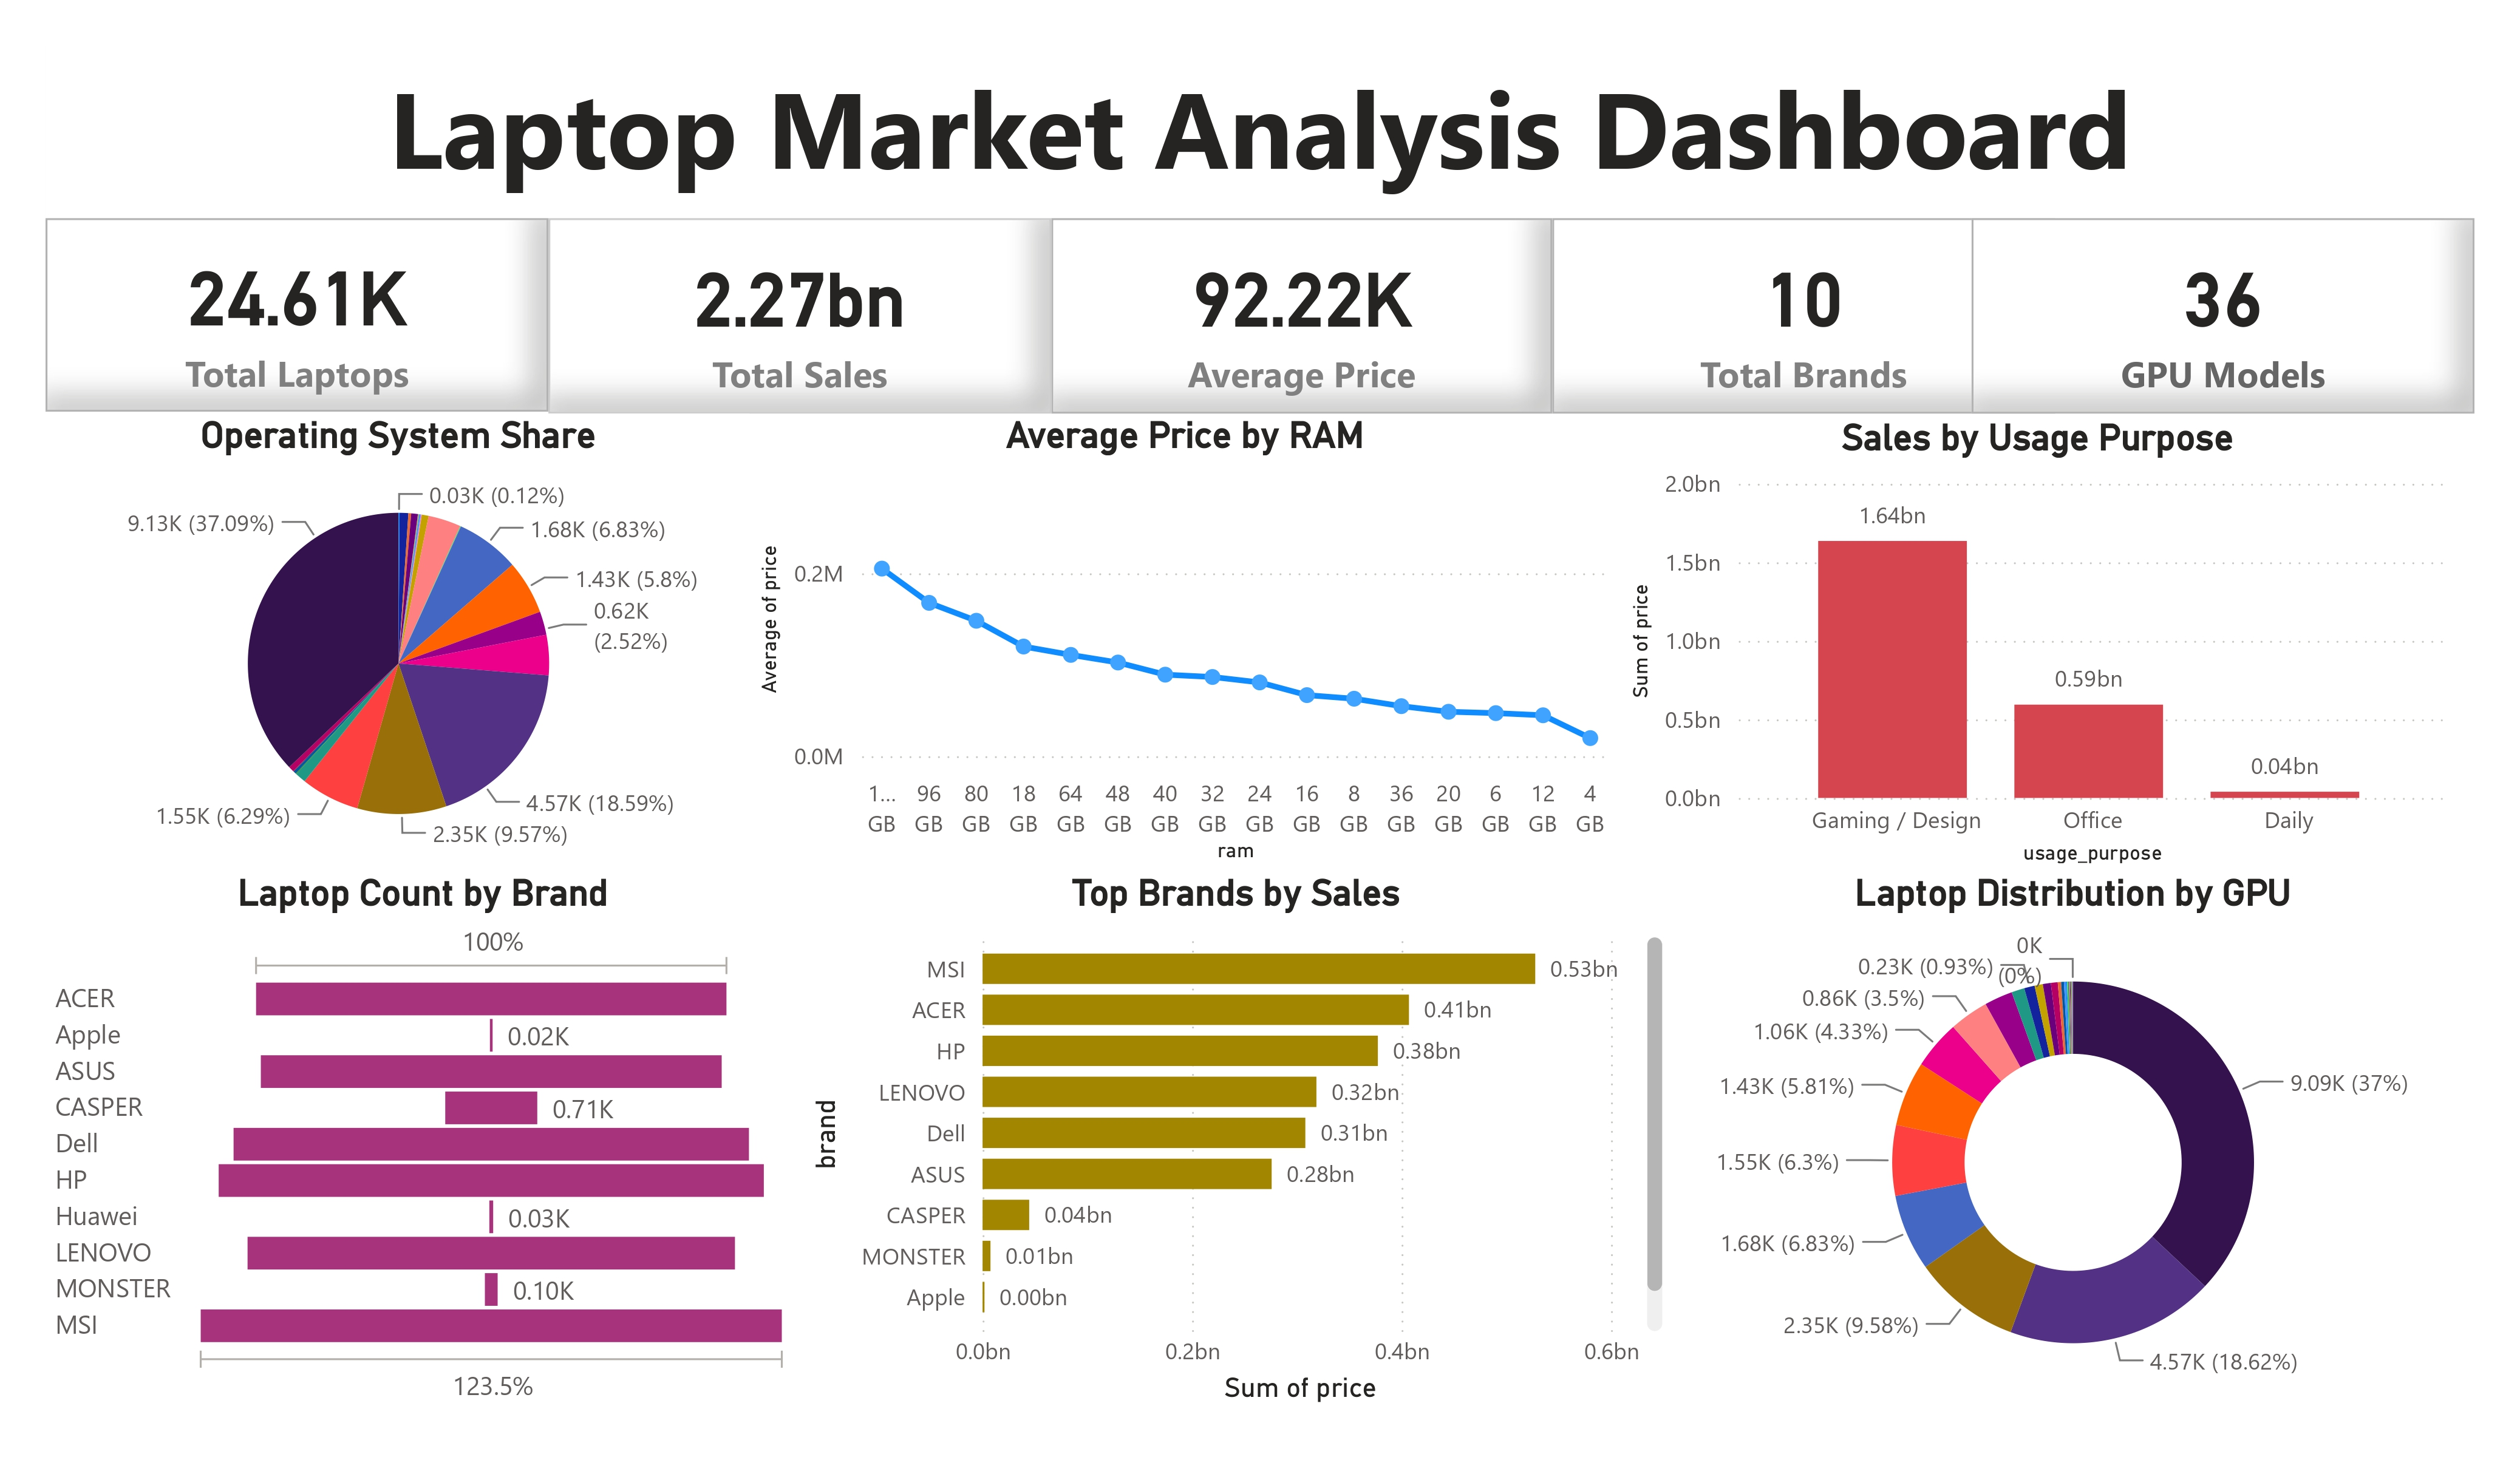

The page's visual inventory and layout, read from the dashboard file:
{"tool":"powerbi","page":{"name":"Page 1","canvas":[1280,720],"ordinal":0},"visuals":[{"type":"lineChart","title":"Average Price by RAM","fields":{"Category":["Laptop_Cleaned_Dataset.ram"],"Y":["Avg(Laptop_Cleaned_Dataset.price)"]},"box":[370.6,193.9,459,240.9],"z":0},{"type":"textbox","box":[0,0,1280.3,90.6],"z":1000},{"type":"clusteredColumnChart","title":"Sales by Usage Purpose","fields":{"Category":["Laptop_Cleaned_Dataset.usage_purpose"],"Y":["Sum(Laptop_Cleaned_Dataset.price)"]},"box":[829.6,195.3,440.4,240.9],"z":2000},{"type":"funnel","title":"Laptop Count by Brand","fields":{"Category":["Laptop_Cleaned_Dataset.brand"],"Y":["CountNonNull(Laptop_Cleaned_Dataset.name)"]},"box":[0,434.7,397.7,285.1],"z":3000},{"type":"clusteredBarChart","title":"Top Brands by Sales","fields":{"Category":["Laptop_Cleaned_Dataset.brand"],"Y":["Sum(Laptop_Cleaned_Dataset.price)"]},"box":[397.7,434.7,459,285.1],"z":4000},{"type":"donutChart","title":"Laptop Distribution by GPU","fields":{"Category":["Laptop_Cleaned_Dataset.gpu"],"Y":["Count(Laptop_Cleaned_Dataset.name)"]},"box":[856.7,434.7,423.3,285.1],"z":5000},{"type":"card","title":"Total Laptops","fields":{"Values":["CountNonNull(Laptop_Cleaned_Dataset.name)"]},"box":[0,90.6,265.1,102.6],"z":6000},{"type":"card","fields":{"Values":["Count(Laptop_Cleaned_Dataset.brand)"]},"box":[793.9,91.2,265.1,102.6],"z":7000},{"type":"card","fields":{"Values":["Avg(Laptop_Cleaned_Dataset.price)"]},"box":[530.2,91.2,263.7,102.6],"z":8000},{"type":"card","fields":{"Values":["Sum(Laptop_Cleaned_Dataset.price)"]},"box":[265.1,91.2,265.1,102.6],"z":9000},{"type":"card","fields":{"Values":["Count(Laptop_Cleaned_Dataset.gpu)"]},"box":[1014.9,91.2,265.1,102.6],"z":10000},{"type":"pieChart","title":"Operating System Share","fields":{"Category":["Laptop_Cleaned_Dataset.os","Laptop_Cleaned_Dataset.gpu"],"Y":["CountNonNull(Laptop_Cleaned_Dataset.name)"]},"box":[1.4,193.9,369.2,240.9],"z":11000}]}

Visuals, with their boxes on the page's 1280x720 design canvas (x1, y1, x2, y2). These are canvas units, not pixel positions in the 2520x1457 screenshot, which may show the page scaled, cropped or inside an application window:
"Average Price by RAM" lineChart: Rect(371, 194, 830, 435)
textbox: Rect(0, 0, 1280, 91)
"Sales by Usage Purpose" clusteredColumnChart: Rect(830, 195, 1270, 436)
"Laptop Count by Brand" funnel: Rect(0, 435, 398, 720)
"Top Brands by Sales" clusteredBarChart: Rect(398, 435, 857, 720)
"Laptop Distribution by GPU" donutChart: Rect(857, 435, 1280, 720)
"Total Laptops" card: Rect(0, 91, 265, 193)
card - Count(Laptop_Cleaned_Dataset.brand): Rect(794, 91, 1059, 194)
card - Avg(Laptop_Cleaned_Dataset.price): Rect(530, 91, 794, 194)
card - Sum(Laptop_Cleaned_Dataset.price): Rect(265, 91, 530, 194)
card - Count(Laptop_Cleaned_Dataset.gpu): Rect(1015, 91, 1280, 194)
"Operating System Share" pieChart: Rect(1, 194, 371, 435)
